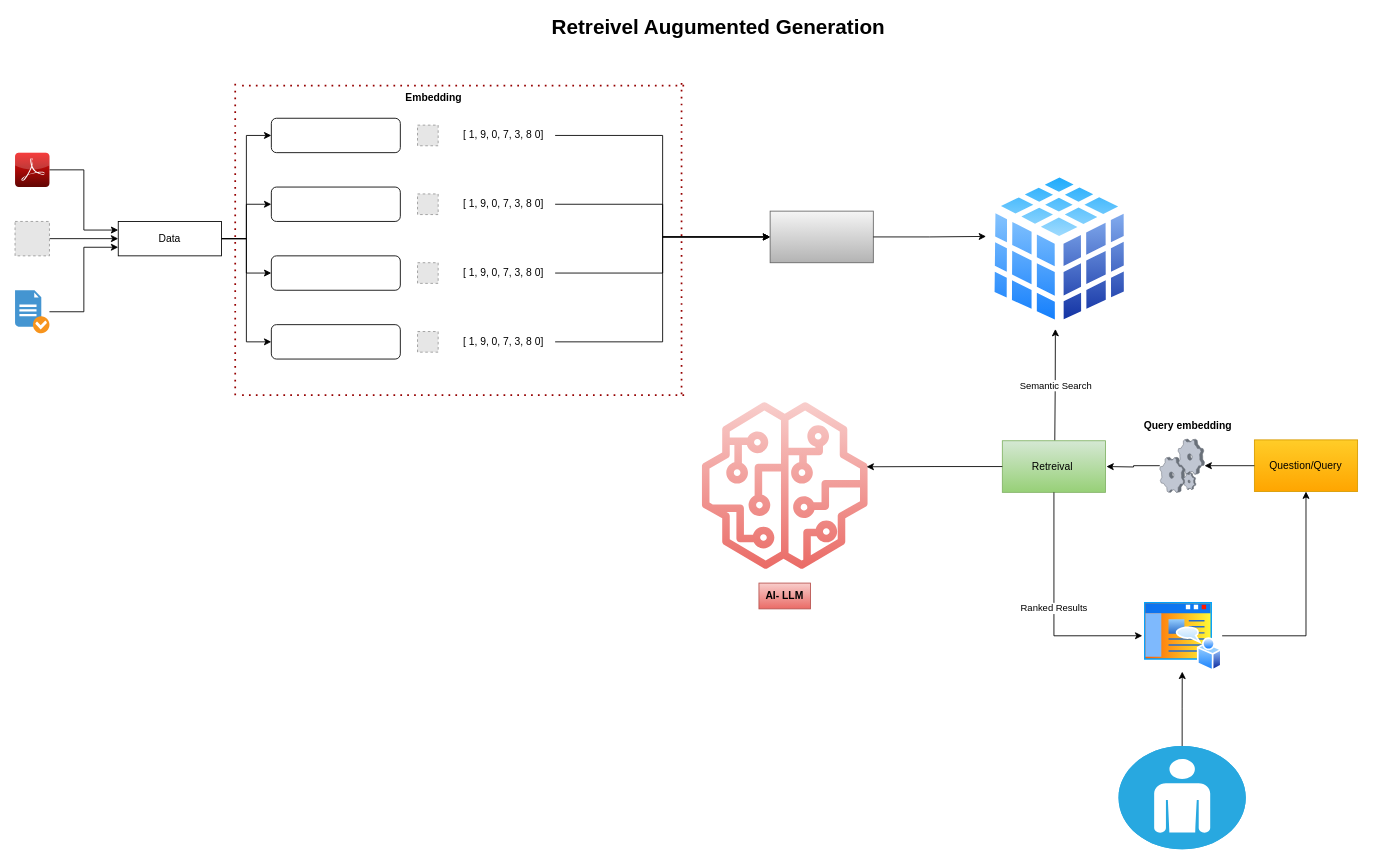
Some shapes in this 1373 by 864 pixel diagram are drawn without their labels. Grey dashed boxes stand in for pictures. The centre of each missing label's shape, as x and y in pixels:
Semantic Indexing: (x=821, y=236)
User Interface: (x=1182, y=635)
